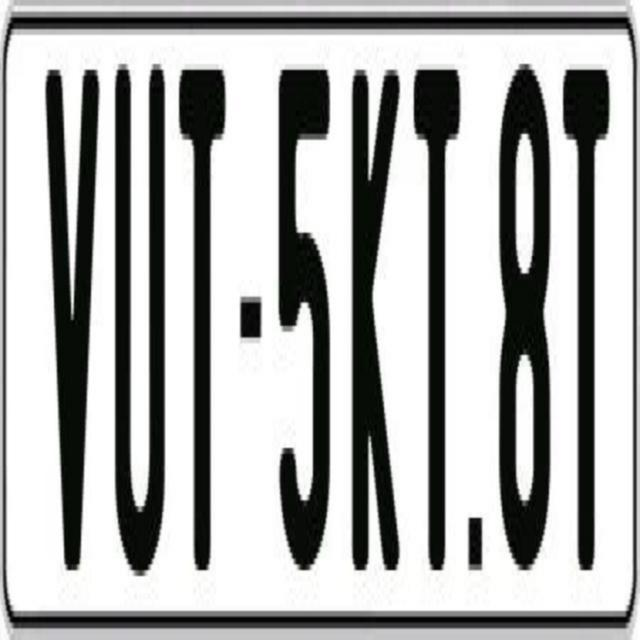5: (278, 70, 328, 576)
8: (496, 52, 550, 582)
K: (352, 52, 407, 564)
T: (562, 52, 614, 570), (178, 52, 228, 588), (411, 70, 461, 570)
U: (112, 64, 165, 605)
V: (41, 70, 96, 582)
